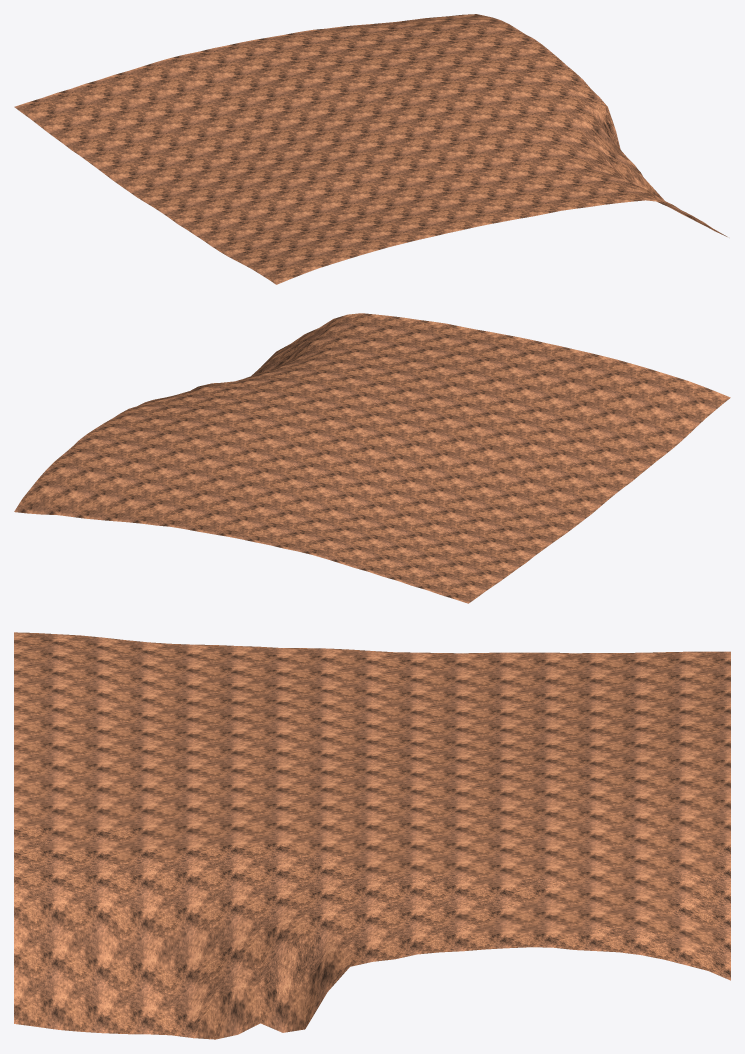
Rendered from terrain_01_17.dae.
The picture shows the model from 3 angles, top to bottom: view 1: azimuth 30°, elevation 25°; view 2: azimuth 150°, elevation 25°; view 3: azimuth 270°, elevation 25°; orthographic projection. The views are drawn at different scales.
Parts seen in each view (by area): view 1: terrain_01_17-node; view 2: terrain_01_17-node; view 3: terrain_01_17-node.
Part boxes in pixels (x1,y1,x2,y2): terrain_01_17-node: [14, 14, 727, 284]; terrain_01_17-node: [14, 313, 730, 603]; terrain_01_17-node: [14, 632, 730, 1039].
Size of the model in its own units: 128 by 128 by 23.31.
1 material, 1 textured.
